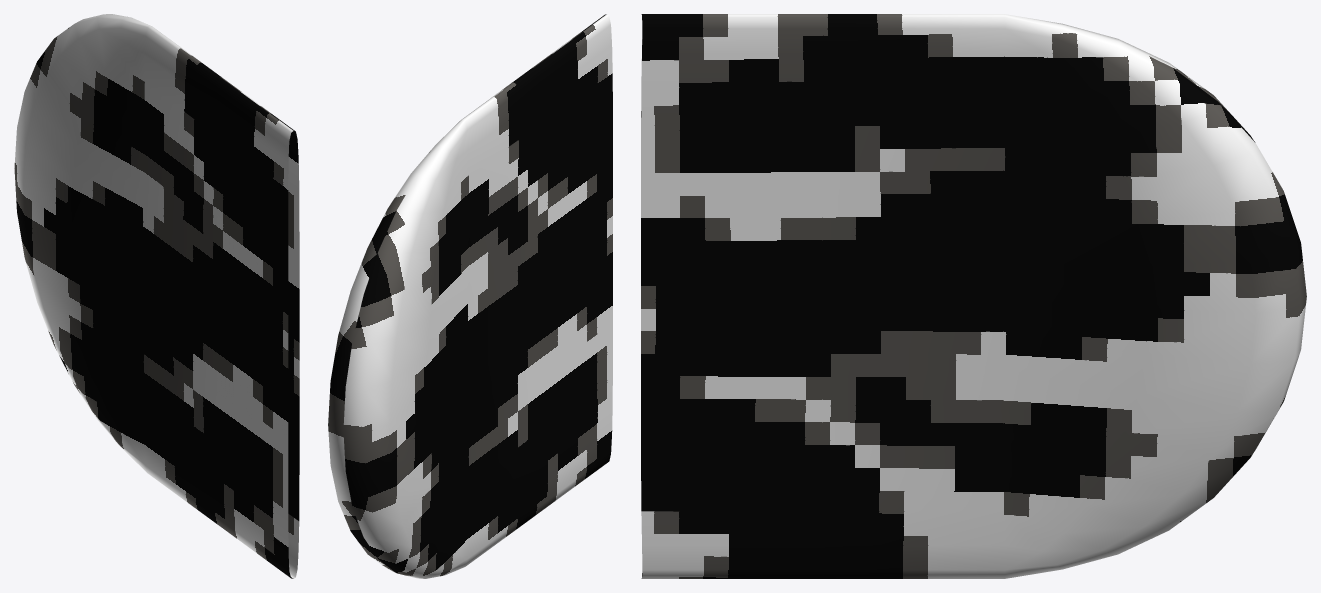
File: Slash_model.obj
3 renders of one model, left to right at view 1: azimuth 30°, elevation 25°; view 2: azimuth 150°, elevation 25°; view 3: azimuth 270°, elevation 25°, orthographic. The views are drawn at different scales.
Parts seen in each view (by area): view 1: Cylindre.001; view 2: Cylindre.001; view 3: Cylindre.001.
Boxes of the visible parts, box(x1,y1,x2,y2) form: Cylindre.001: box(14, 14, 299, 578); Cylindre.001: box(328, 14, 612, 578); Cylindre.001: box(641, 14, 1306, 578).
Size of the model in its own units: 0.2512 by 2 by 2.14.
